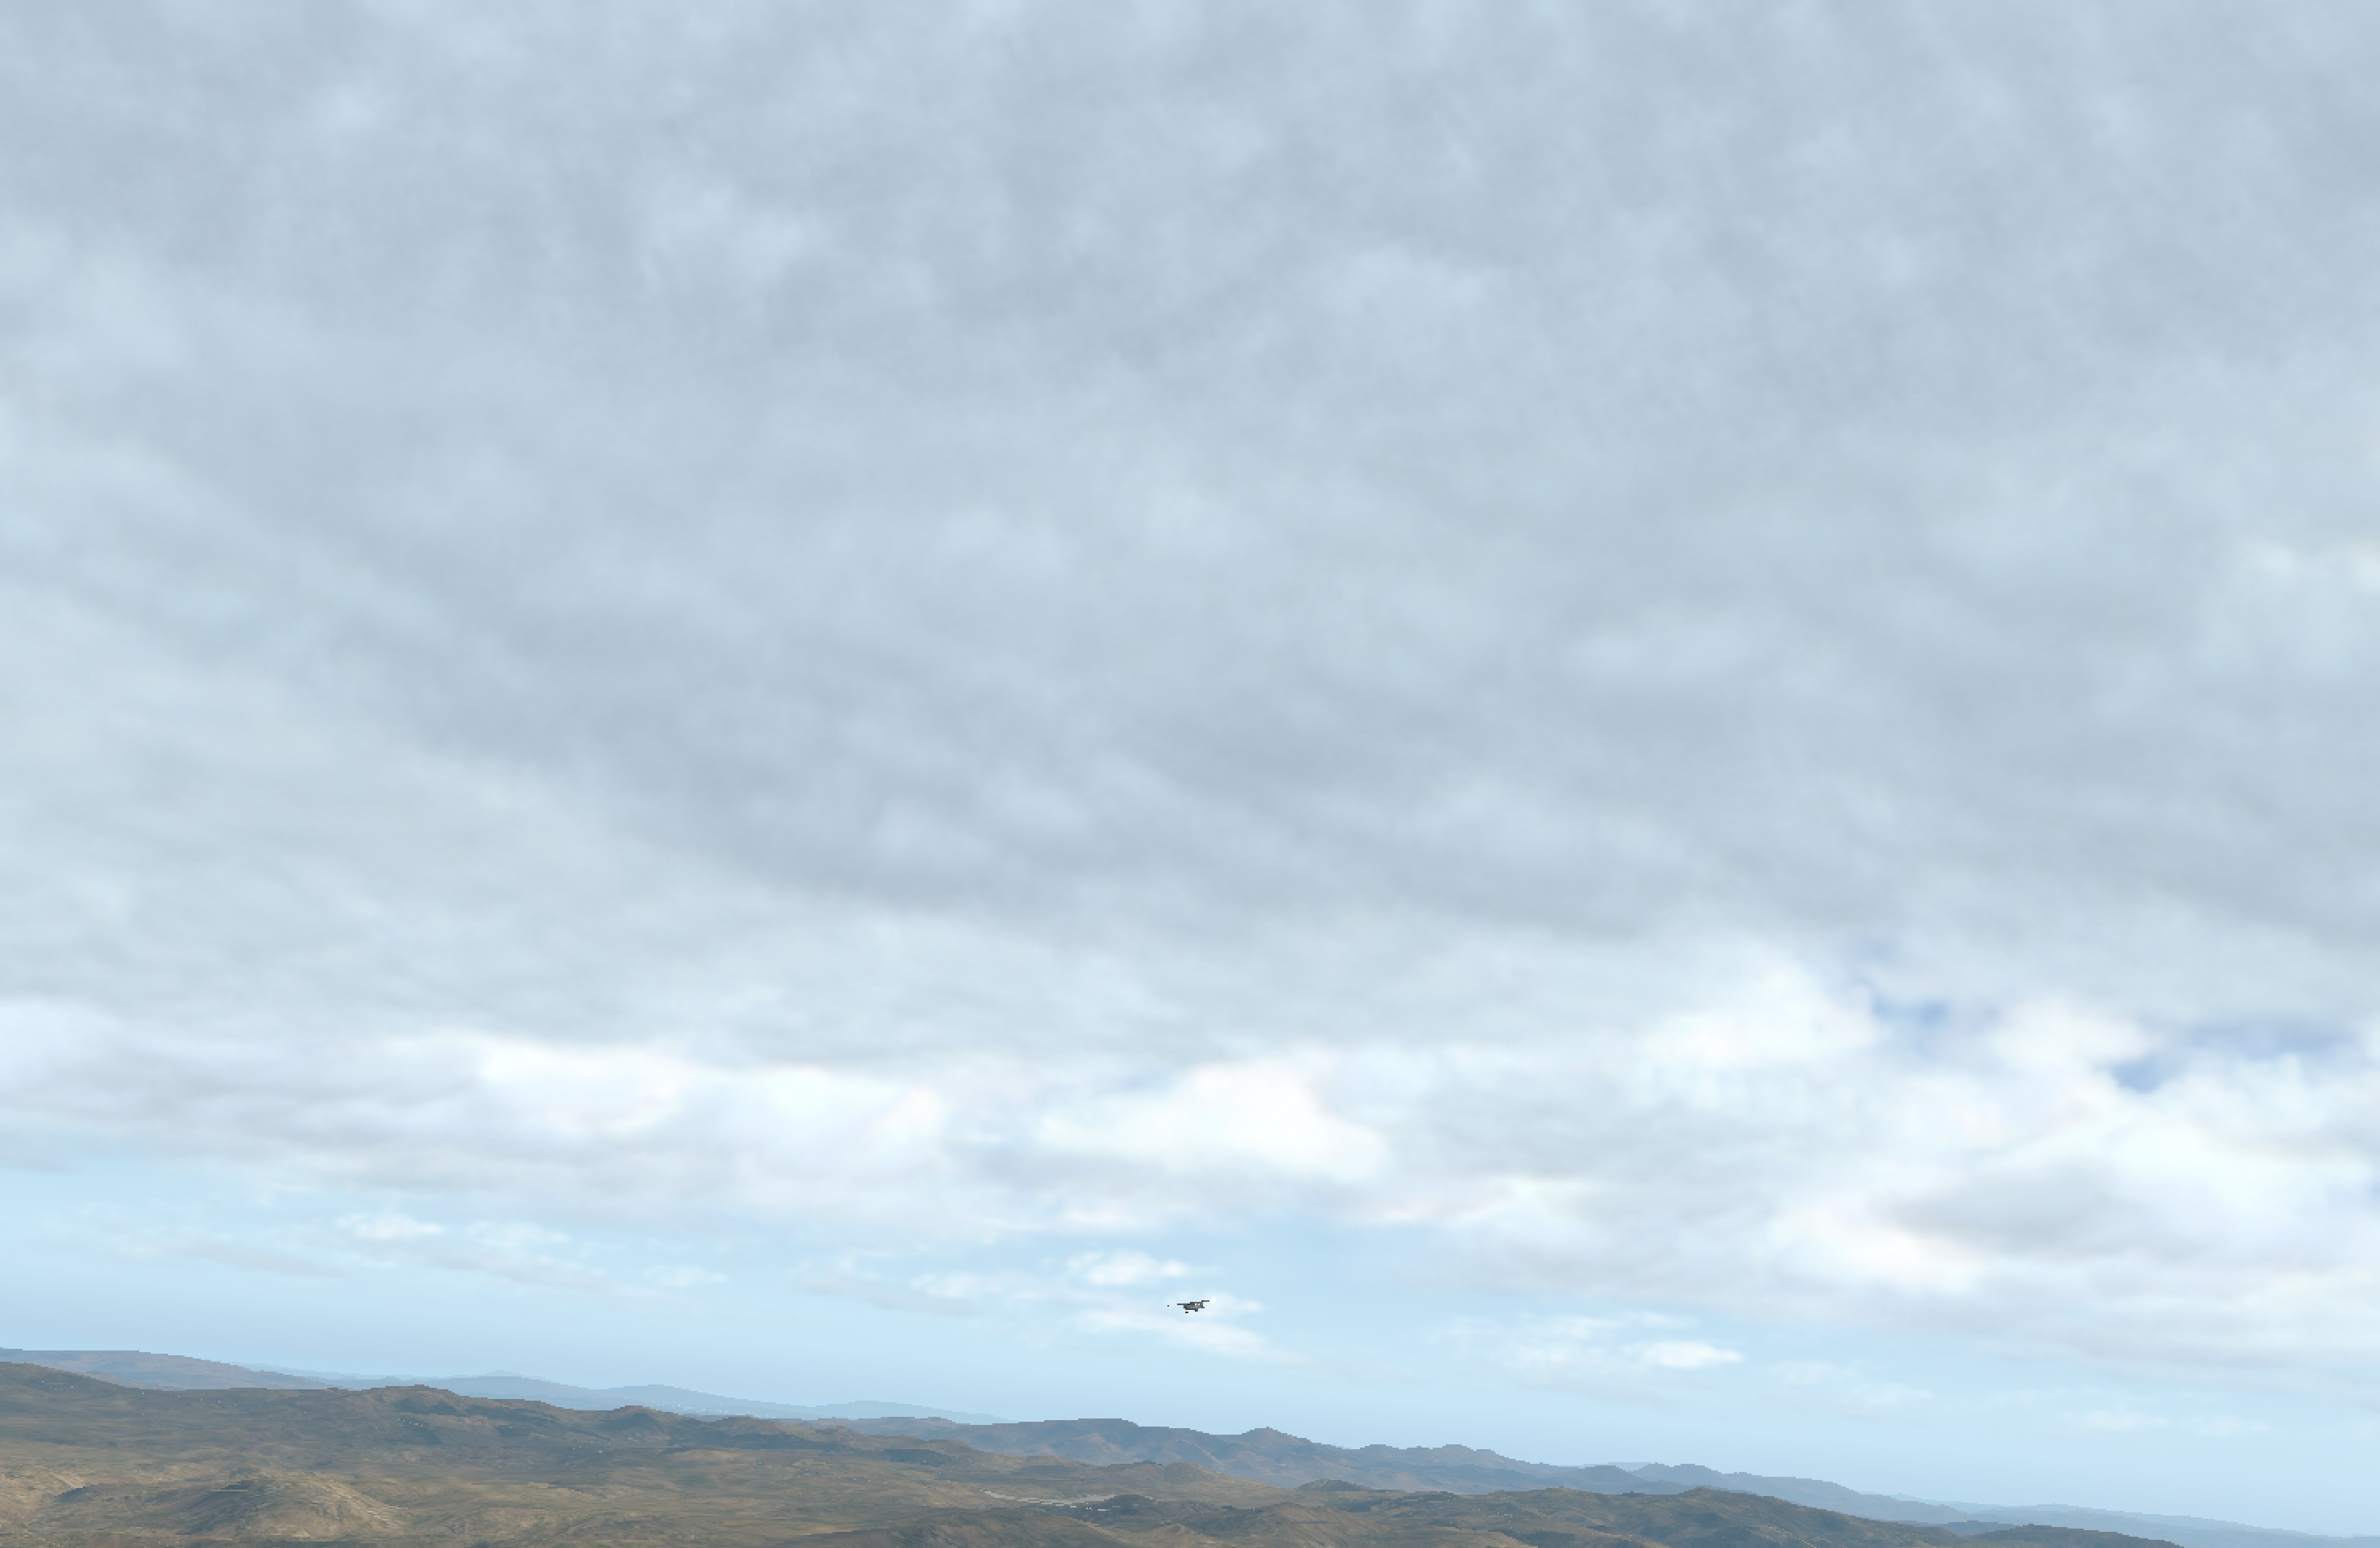aircraft: (1171, 1300, 1209, 1314)
